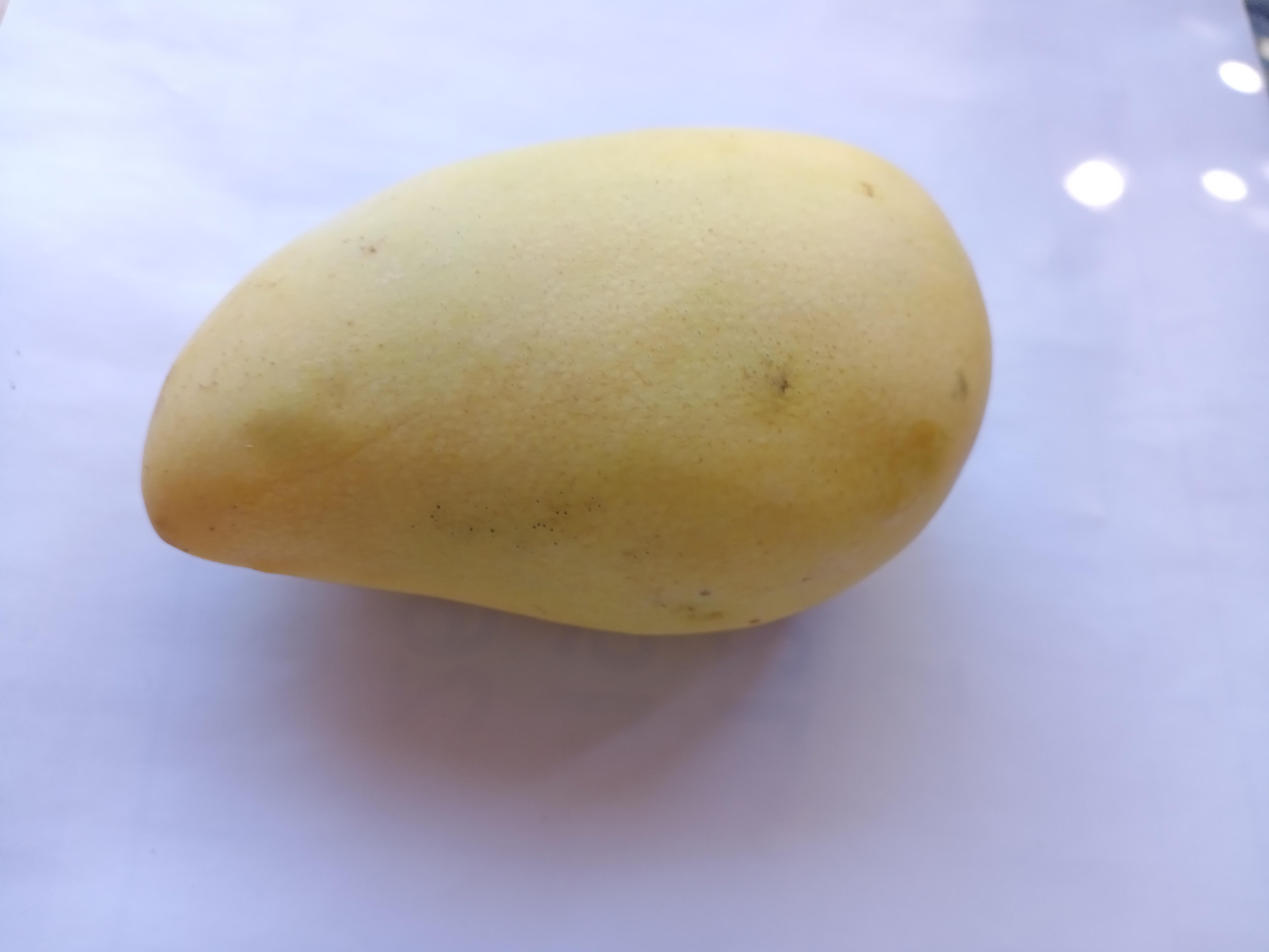Mango Ripe: (108, 83, 1046, 683)
